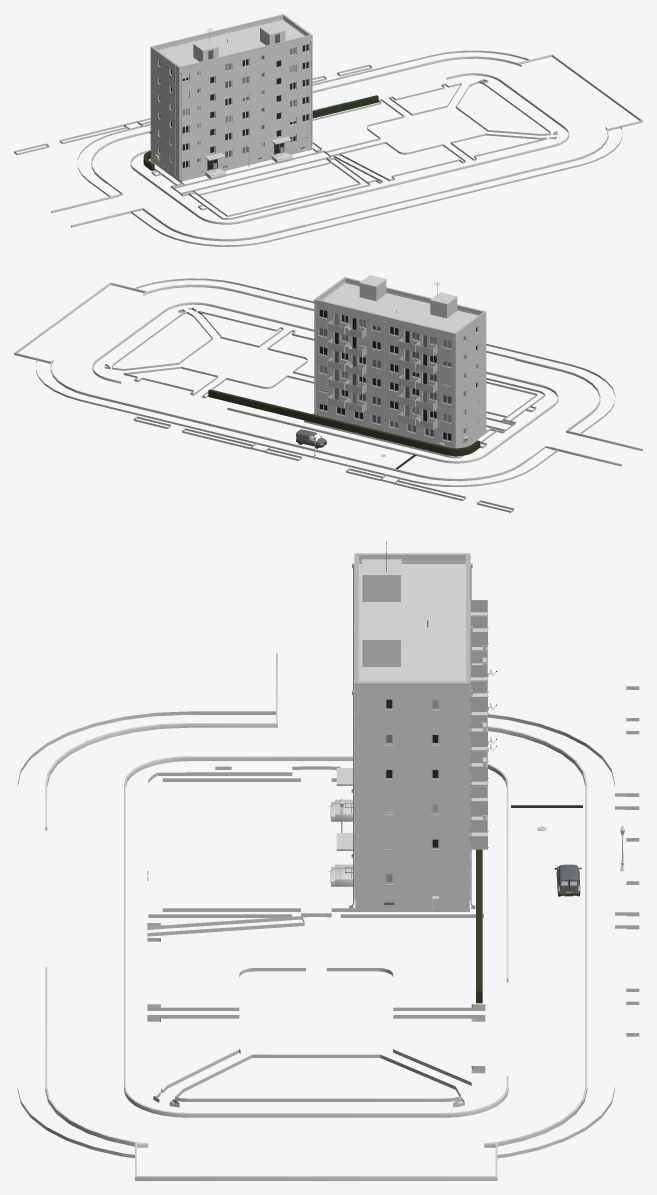
File: cell_m1_0.glb
3 renders of one model, top to bottom at view 1: azimuth 30°, elevation 25°; view 2: azimuth 150°, elevation 25°; view 3: azimuth 270°, elevation 25°, orthographic. The views are drawn at different scales.
Parts seen in each view (by area): view 1: cell_m1_0; view 2: cell_m1_0; view 3: cell_m1_0.
Part boxes in pixels (bbox=[...]): cell_m1_0: bbox=[14, 14, 642, 246]; cell_m1_0: bbox=[14, 275, 642, 512]; cell_m1_0: bbox=[17, 541, 639, 1180].
Bounding box in the file's own units: 96.65 × 23.97 × 48.5.
